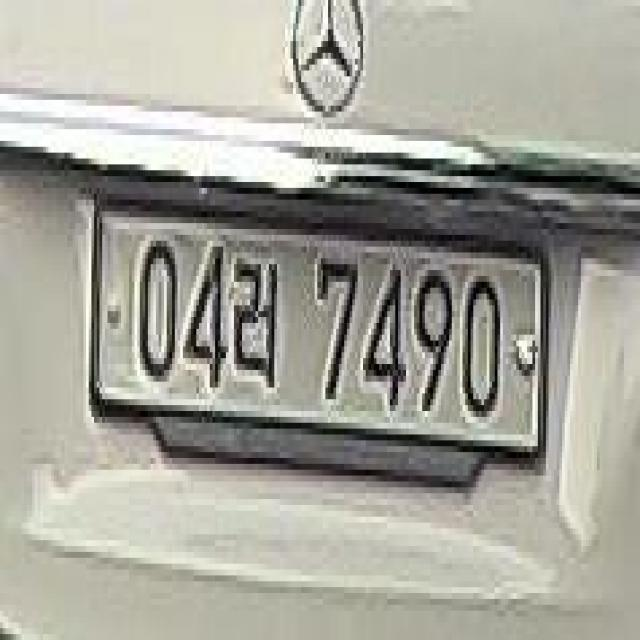illegal_plate: (84, 185, 553, 508)
